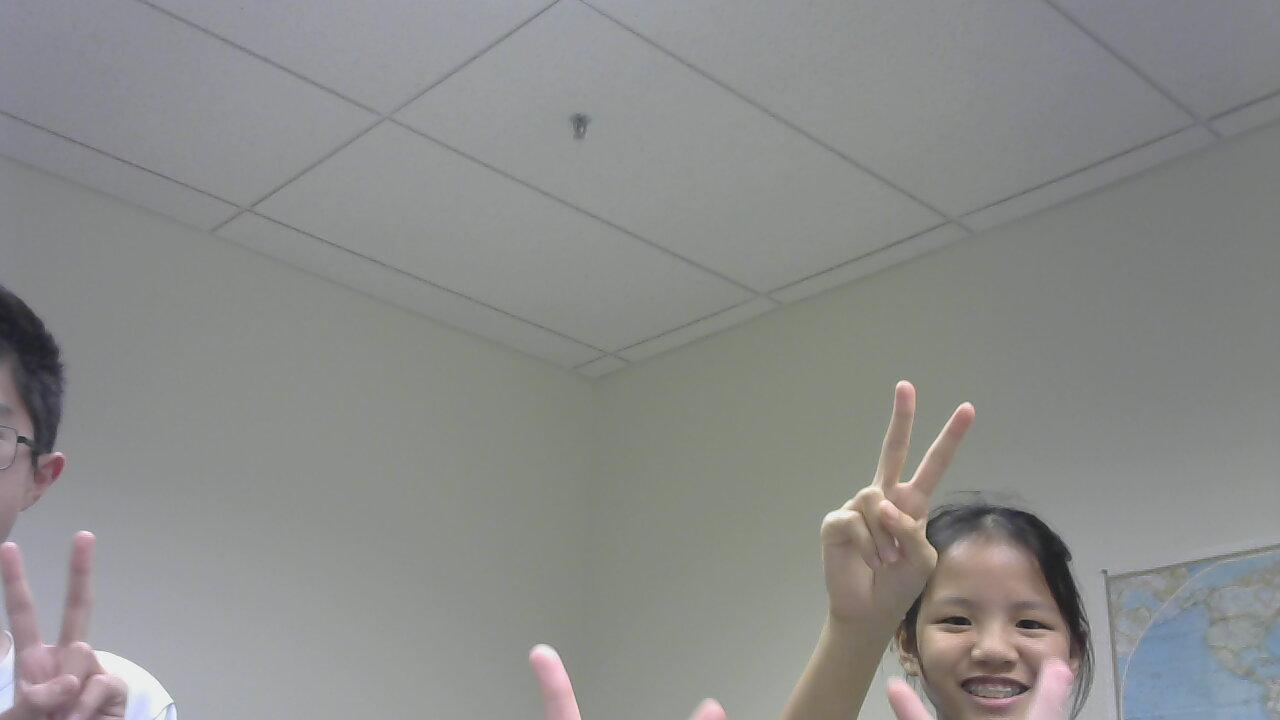peace: (801, 377, 962, 623), (1, 534, 127, 720)
